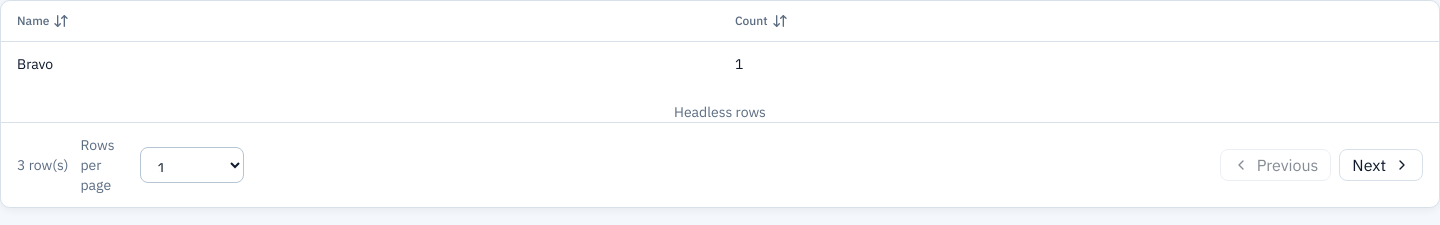
it: DataTable › supports headless sorting and pagination
Click the button "Count" at (761, 21), box [735, 13, 788, 29]
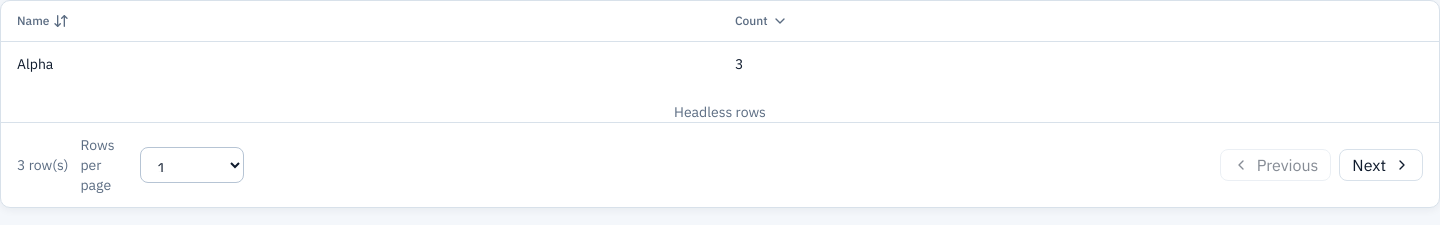
Click the button "Count" at (761, 21), box [735, 13, 788, 29]
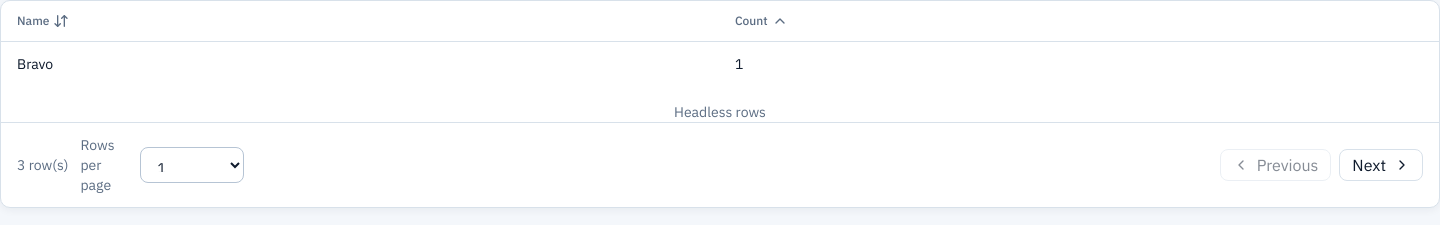
Expected: the text "Bravo" is shown, [1, 41, 719, 86]
Click the button "Next" at (1381, 164), box [1339, 148, 1423, 180]
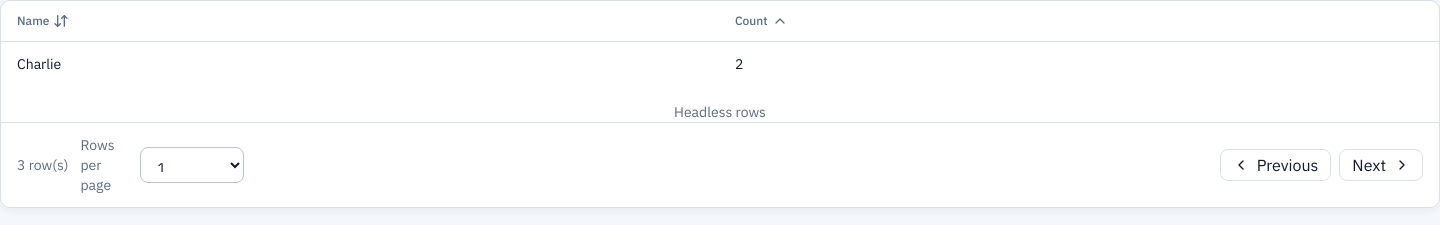
Expected: the text "Charlie" is shown, [1, 41, 719, 86]
